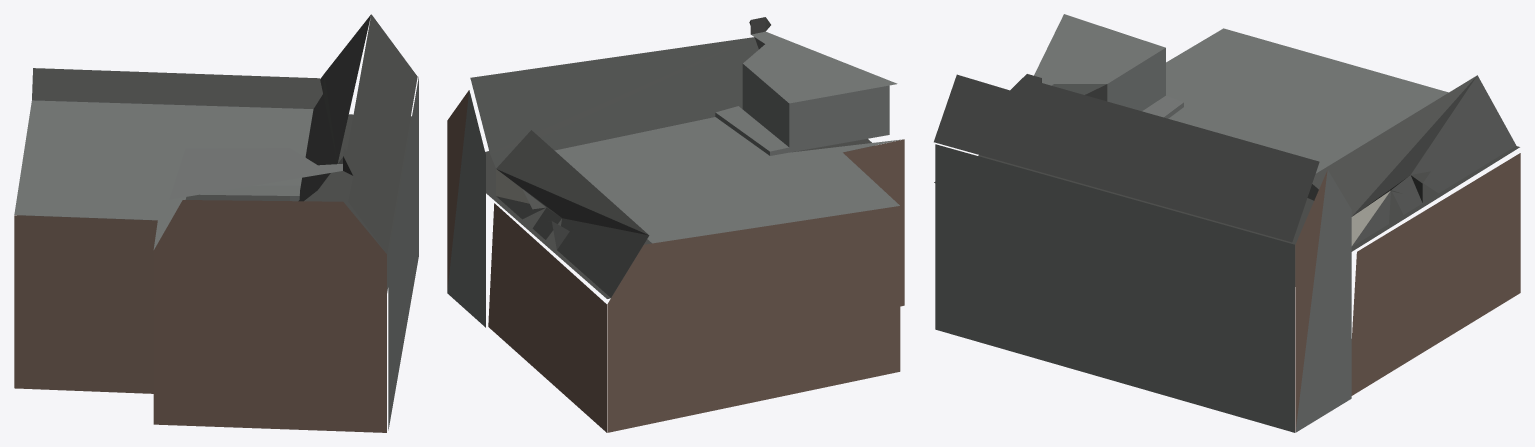
3 renders of one model, left to right at view 1: azimuth 30°, elevation 25°; view 2: azimuth 150°, elevation 25°; view 3: azimuth 270°, elevation 25°, orthographic. The views are drawn at different scales.
Parts seen in each view (by area): view 1: lod2; view 2: lod2; view 3: lod2.
Part boxes in pixels (bbox=[...]): lod2: bbox=[14, 14, 418, 432]; lod2: bbox=[447, 17, 904, 432]; lod2: bbox=[934, 14, 1520, 432].
Bounding box in the file's own units: 34.55 × 18.38 × 38.32.
